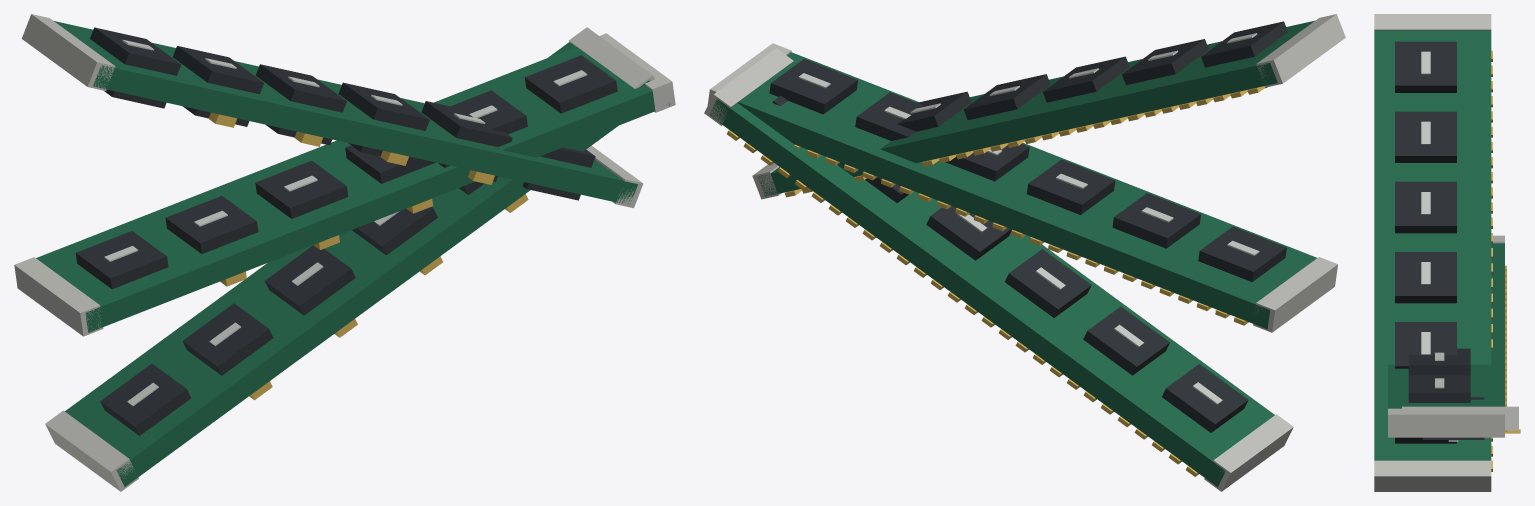
The model's file is computer.glb.
3 renders of one model, left to right at view 1: azimuth 30°, elevation 25°; view 2: azimuth 150°, elevation 25°; view 3: azimuth 270°, elevation 25°, orthographic. The views are drawn at different scales.
Visible parts, largest first — view 1: RAM_B_PCB, RAM_C_PCB, RAM_A_PCB, RAM_C_chip_1_0, RAM_C_chip_1_1, RAM_C_chip_1_2, RAM_B_end_cap_L, RAM_A_end_cap_L, RAM_B_chip_1_2, RAM_B_chip_1_0, RAM_B_chip_1_1, RAM_B_chip_1_5 (+12 smaller); view 2: RAM_C_PCB, RAM_B_PCB, RAM_A_PCB, RAM_C_chip_1_1, RAM_C_chip_1_0, RAM_C_chip_1_2, RAM_B_end_cap_L, RAM_B_chip_1_2, RAM_B_chip_1_1, RAM_B_chip_1_0, RAM_B_chip_1_5, RAM_A_end_cap_L (+10 smaller); view 3: RAM_A_PCB, RAM_B_PCB, RAM_A_end_cap_R, RAM_B_end_cap_R, RAM_A_chip_1_2, RAM_A_chip_1_0, RAM_A_chip_1_1, RAM_A_chip_1_3, RAM_A_chip_1_4, RAM_A_end_cap_L, RAM_B_chip_1_5, RAM_B_chip_1_4 (+8 smaller).
Boxes of the visible parts, x1,y1,x2,y2 form: RAM_B_PCB: [36, 46, 669, 332]; RAM_C_PCB: [65, 42, 649, 486]; RAM_A_PCB: [54, 21, 637, 204]; RAM_C_chip_1_0: [100, 363, 190, 435]; RAM_C_chip_1_1: [182, 303, 273, 375]; RAM_C_chip_1_2: [265, 245, 355, 315]; RAM_B_end_cap_L: [14, 257, 103, 336]; RAM_A_end_cap_L: [21, 14, 115, 90]; RAM_B_chip_1_2: [255, 160, 348, 218]; RAM_B_chip_1_0: [75, 231, 168, 289]; RAM_B_chip_1_1: [165, 196, 258, 253]; RAM_B_chip_1_5: [525, 55, 617, 113]; RAM_C_PCB: [709, 99, 1274, 487]; RAM_B_PCB: [714, 52, 1316, 329]; RAM_A_PCB: [758, 20, 1314, 196]; RAM_C_chip_1_1: [1083, 306, 1169, 375]; RAM_C_chip_1_0: [1162, 364, 1248, 432]; RAM_C_chip_1_2: [1005, 249, 1091, 317]; RAM_B_end_cap_L: [1253, 257, 1337, 332]; RAM_B_chip_1_2: [1026, 159, 1115, 214]; RAM_B_chip_1_1: [1112, 193, 1200, 248]; RAM_B_chip_1_0: [1198, 226, 1286, 281]; RAM_B_chip_1_5: [769, 58, 857, 114]; RAM_A_end_cap_L: [1256, 14, 1345, 87]; RAM_A_PCB: [1374, 30, 1491, 460]; RAM_B_PCB: [1388, 243, 1504, 408]; RAM_A_end_cap_R: [1374, 460, 1491, 491]; RAM_B_end_cap_R: [1388, 408, 1504, 437]; RAM_A_chip_1_2: [1395, 181, 1456, 233]; RAM_A_chip_1_0: [1395, 41, 1456, 92]; RAM_A_chip_1_1: [1395, 111, 1456, 162]; RAM_A_chip_1_3: [1395, 252, 1456, 303]; RAM_A_chip_1_4: [1395, 322, 1456, 368]; RAM_A_end_cap_L: [1374, 14, 1491, 30]; RAM_B_chip_1_5: [1408, 375, 1470, 402]; RAM_B_chip_1_4: [1408, 348, 1470, 375].
Bounding box in the file's own units: 3.55 × 2.56 × 0.85.
